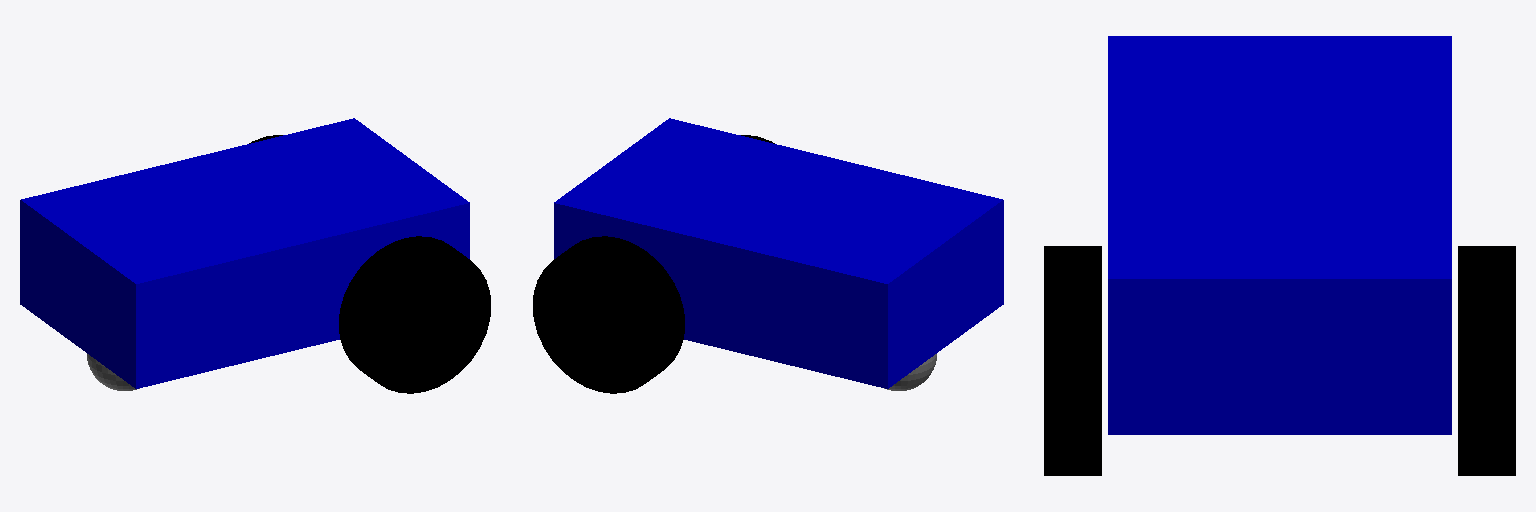
robot.urdf — my_robot:
<?xml version="1.0"?>
<robot name="my_robot">
  <link name="base_link">
    <visual>
      <geometry>
        <box size="0.5 0.3 0.15"/>
      </geometry>
      <material name="blue">
        <color rgba="0 0 0.8 1"/>
      </material>
    </visual>
    <collision>
      <geometry>
        <box size="0.5 0.3 0.15"/>
      </geometry>
    </collision>
    <inertial>
      <mass value="5.0"/>
      <origin xyz="0 0 0" rpy="0 0 0"/>
      <inertia ixx="0.0468" ixy="0" ixz="0" iyy="0.1135" iyz="0" izz="0.1419"/>
    </inertial>
  </link>

  <link name="left_wheel">
    <visual>
      <geometry>
        <cylinder length="0.05" radius="0.1"/>
      </geometry>
      <material name="black">
        <color rgba="0 0 0 1"/>
      </material>
    </visual>
    <collision>
      <geometry>
        <cylinder length="0.05" radius="0.1"/>
      </geometry>
    </collision>
    <inertial>
      <mass value="0.5"/>
      <origin xyz="0 0 0" rpy="0 0 0"/>
      <inertia ixx="0.00135" ixy="0" ixz="0" iyy="0.00135" iyz="0" izz="0.0025"/>
    </inertial>
  </link>

  <joint name="left_wheel_joint" type="continuous">
    <parent link="base_link"/>
    <child link="left_wheel"/>
    <origin xyz="0.15 0.18 -0.05" rpy="-1.5708 0 0"/>
    <axis xyz="0 0 1"/>
  </joint>

  <link name="right_wheel">
    <visual>
      <geometry>
        <cylinder length="0.05" radius="0.1"/>
      </geometry>
      <material name="black">
        <color rgba="0 0 0 1"/>
      </material>
    </visual>
    <collision>
      <geometry>
        <cylinder length="0.05" radius="0.1"/>
      </geometry>
    </collision>
    <inertial>
      <mass value="0.5"/>
      <origin xyz="0 0 0" rpy="0 0 0"/>
      <inertia ixx="0.00135" ixy="0" ixz="0" iyy="0.00135" iyz="0" izz="0.0025"/>
    </inertial>
  </link>

  <joint name="right_wheel_joint" type="continuous">
    <parent link="base_link"/>
    <child link="right_wheel"/>
    <origin xyz="0.15 -0.18 -0.05" rpy="-1.5708 0 0"/>
    <axis xyz="0 0 1"/>
  </joint>

  <link name="caster_wheel">
    <visual>
      <geometry>
        <sphere radius="0.05"/>
      </geometry>
      <material name="grey">
        <color rgba="0.5 0.5 0.5 1"/>
      </material>
    </visual>
    <collision>
      <geometry>
        <sphere radius="0.05"/>
      </geometry>
    </collision>
    <inertial>
      <mass value="0.2"/>
      <origin xyz="0 0 0" rpy="0 0 0"/>
      <inertia ixx="0.0002" ixy="0" ixz="0" iyy="0.0002" iyz="0" izz="0.0002"/>
    </inertial>
  </link>

  <joint name="caster_wheel_joint" type="fixed">
    <parent link="base_link"/>
    <child link="caster_wheel"/>
    <origin xyz="-0.18 0 -0.1" rpy="0 0 0"/>
  </joint>

  <gazebo reference="caster_wheel">
    <mu1>0.001</mu1>
    <mu2>0.001</mu2>
  </gazebo>
</robot>

--- Facts derived from the render (not from the file) ---
3 views of the same robot in one strip: view 1: azimuth 30°, elevation 25°; view 2: azimuth 150°, elevation 25°; view 3: azimuth 270°, elevation 25° (orthographic).
Robot: my_robot — 4 links, 3 joints (2 continuous, 1 fixed); root link base_link; default pose: all joints at 0.
Visible links, largest first — view 1: base_link, right_wheel, caster_wheel; view 2: base_link, left_wheel, caster_wheel; view 3: base_link, left_wheel, right_wheel.
Link boxes in pixels (left/top/right/bottom): base_link: left=20, top=118, right=469, bottom=388; right_wheel: left=339, top=236, right=490, bottom=393; caster_wheel: left=87, top=354, right=139, bottom=390; base_link: left=554, top=118, right=1003, bottom=388; left_wheel: left=533, top=236, right=684, bottom=393; caster_wheel: left=884, top=354, right=936, bottom=390; base_link: left=1108, top=36, right=1451, bottom=434; left_wheel: left=1458, top=246, right=1515, bottom=475; right_wheel: left=1044, top=246, right=1101, bottom=475.
Bounding box of the posed robot: 0.5 × 0.41 × 0.225 m (x, y, z).
Geometry: primitives only (box / cylinder / sphere), no mesh files.
